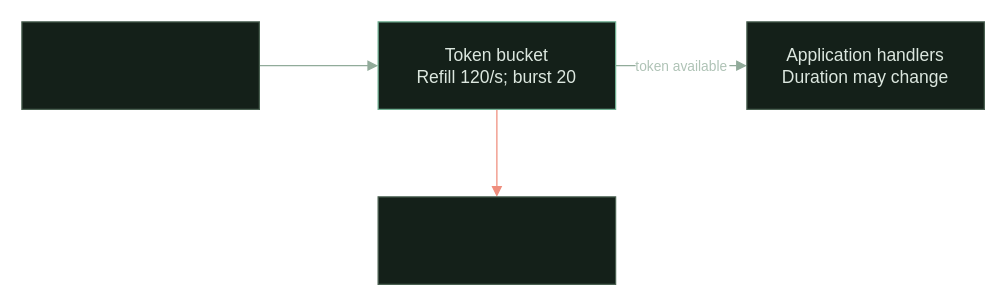
Some shapes in this 1006 by 306 pixel diagram are drawn without their labels. The centre of each missing label's shape, as x and y in pixels:
Incoming requests Steady traffic or a burst: point (140, 65)
No token available Reject by rate policy: point (496, 240)
